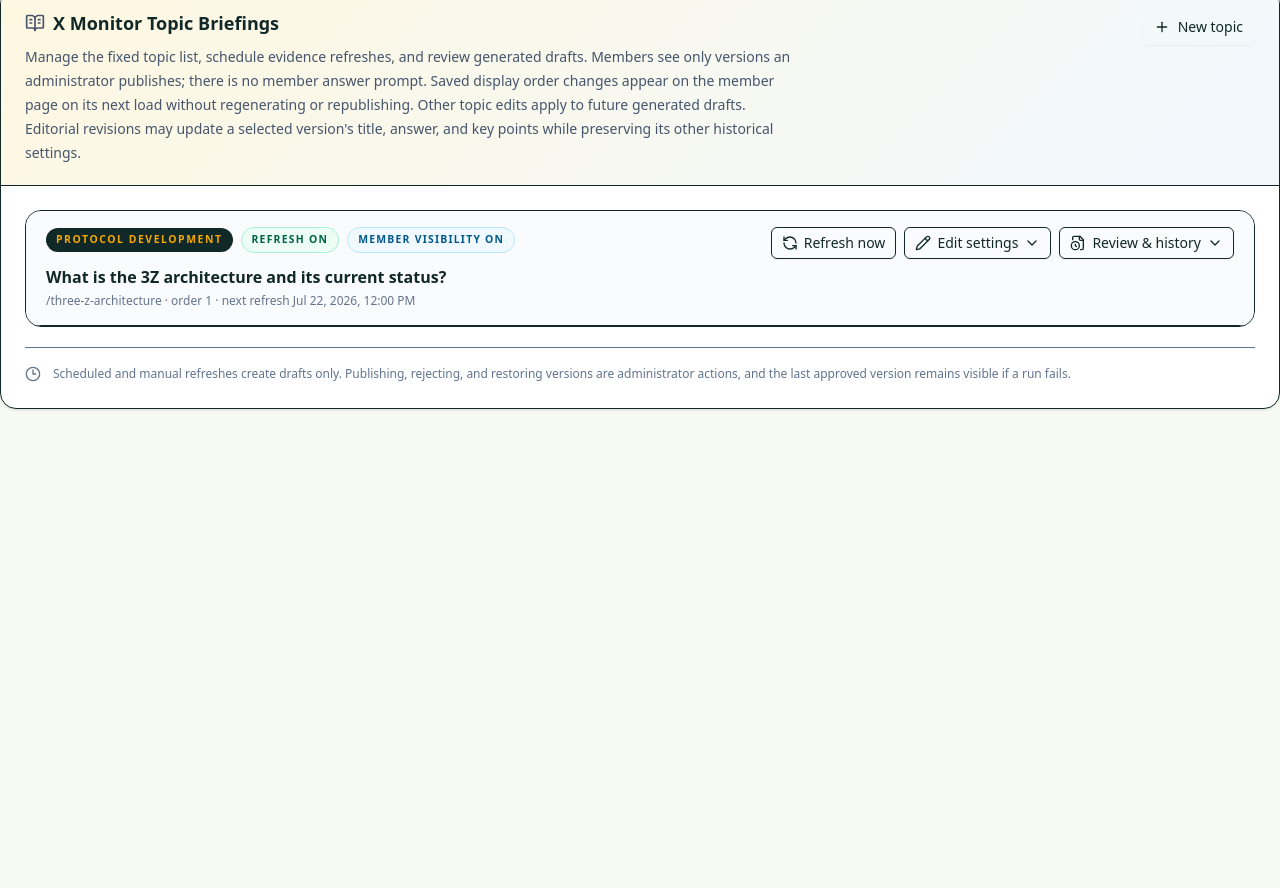
Topic Briefings admin panel › removes an archived topic from the active list
Click the button "Edit settings". click: (978, 243)
box: [904,227,1051,259]
(page scrolled)
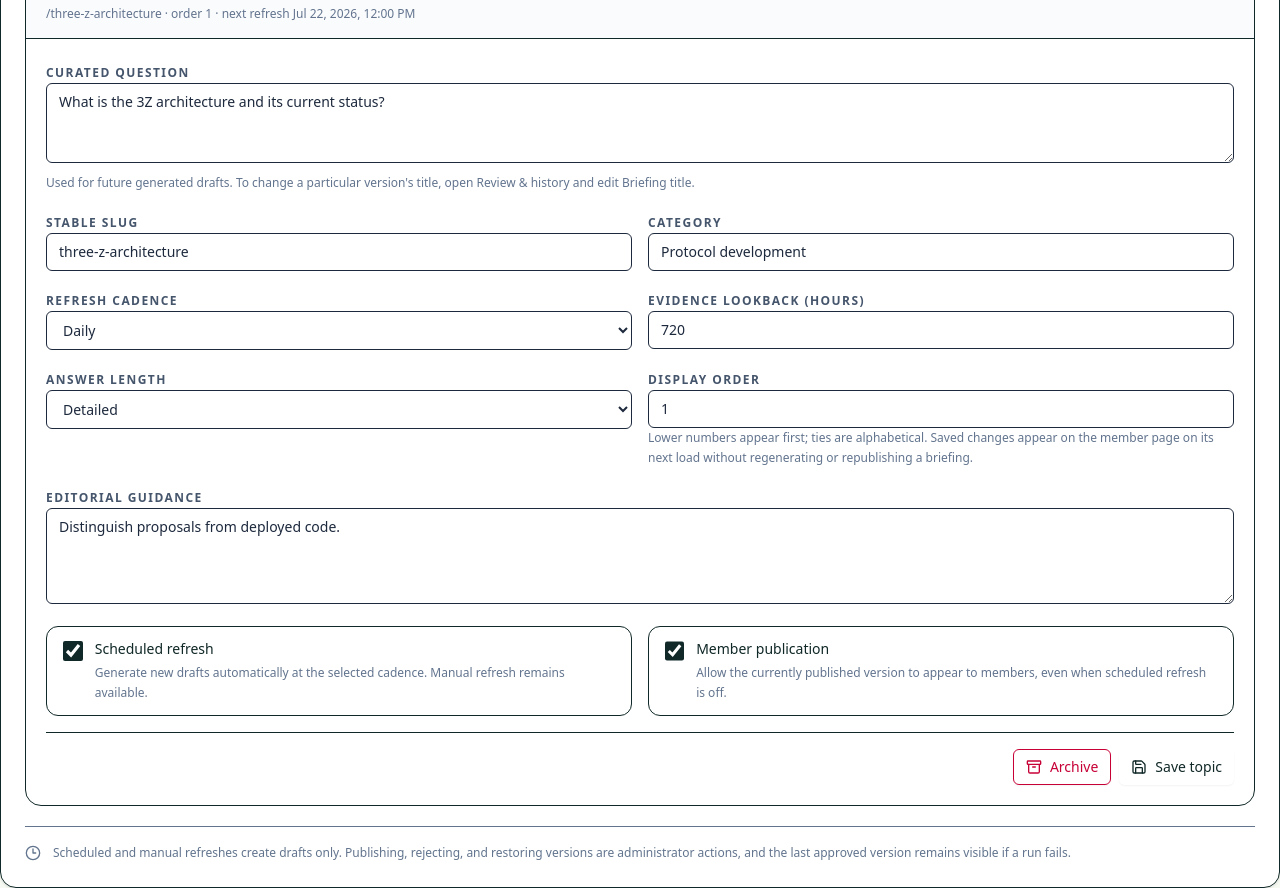
Click the button "Archive". click: (1062, 767)
box: [1013,749,1111,785]
(page scrolled)
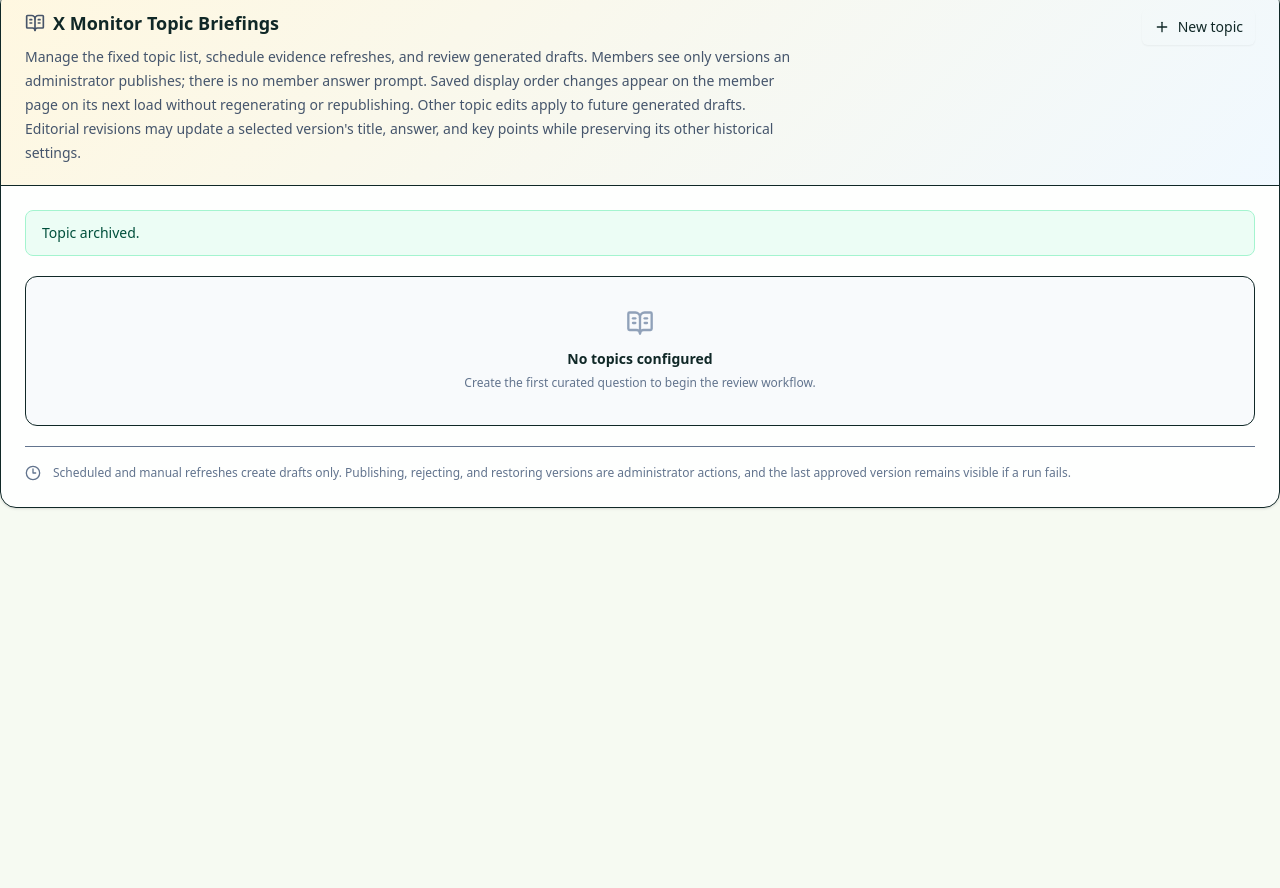
Check: the text "Topic archived." is shown, box [25,210,1255,256]
